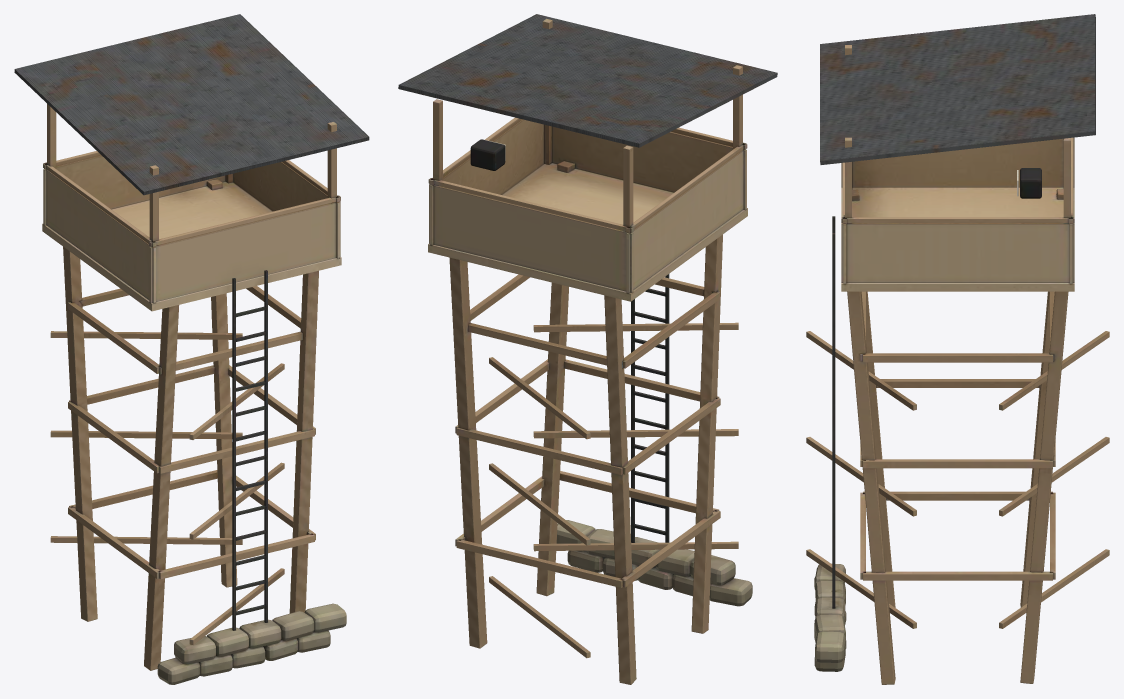
The model's file is d_watchtower.glb.
3 renders of one model, left to right at view 1: azimuth 30°, elevation 25°; view 2: azimuth 150°, elevation 25°; view 3: azimuth 270°, elevation 25°, orthographic. The views are drawn at different scales.
Parts seen in each view (by area): view 1: BldW_Shell, BldW_Roof; view 2: BldW_Shell, BldW_Roof; view 3: BldW_Shell, BldW_Roof.
Part boxes in pixels (left/top/right/bottom): BldW_Shell: left=42, top=104, right=346, bottom=684; BldW_Roof: left=14, top=14, right=369, bottom=195; BldW_Shell: left=428, top=18, right=752, bottom=684; BldW_Roof: left=398, top=14, right=777, bottom=147; BldW_Shell: left=806, top=45, right=1109, bottom=684; BldW_Roof: left=820, top=14, right=1095, bottom=164.
Size of the model in its own units: 3.8 by 8.65 by 4.15.
2 materials, 2 textured.
